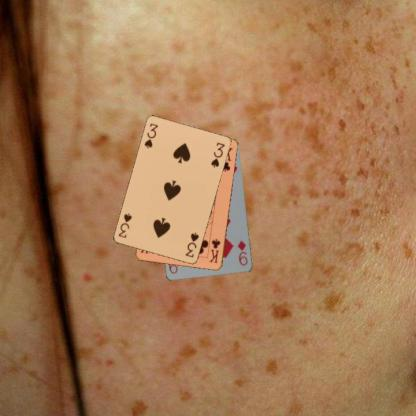3s: (182, 230, 200, 259), (142, 121, 160, 150)
9d: (235, 238, 249, 267)
Kc: (207, 236, 221, 264)
